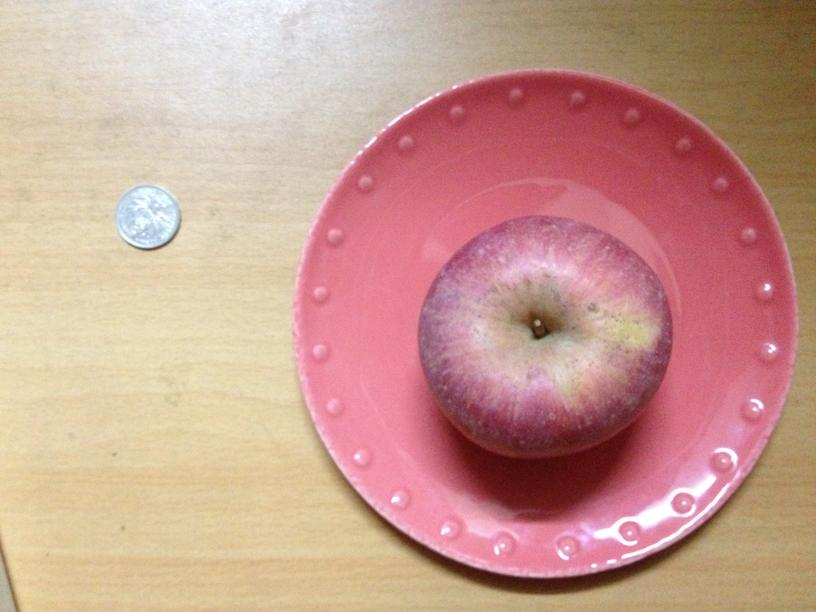apple: (415, 213, 672, 462)
coin: (116, 186, 180, 249)
